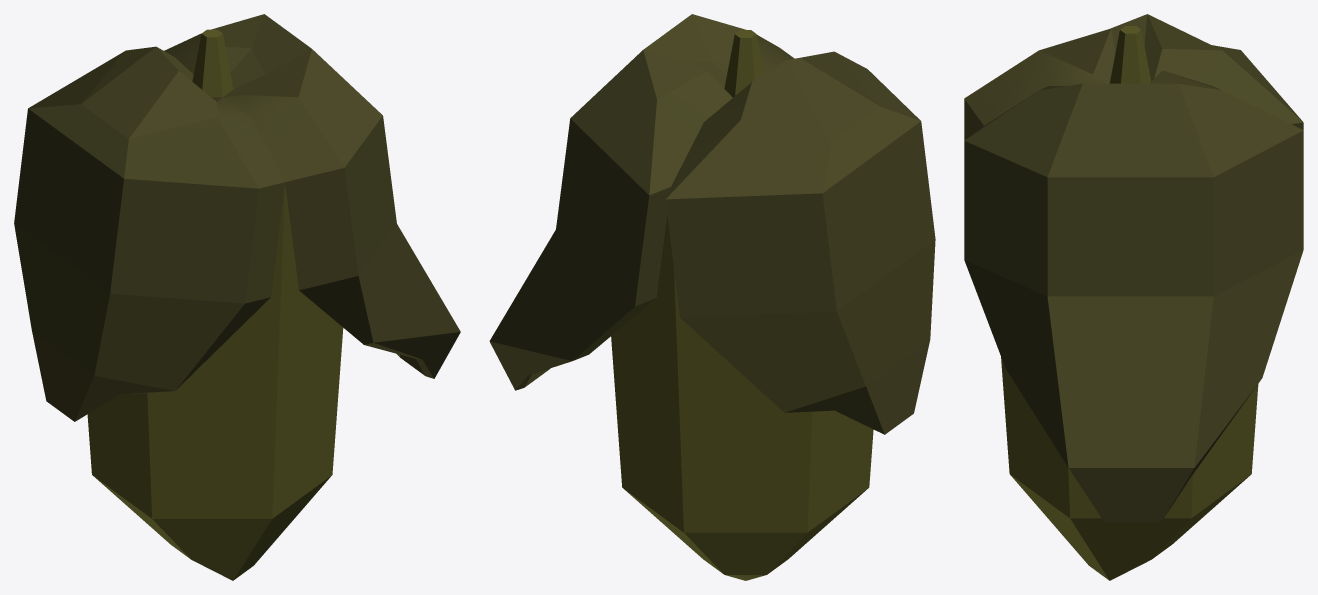
The picture shows the model from 3 angles, left to right: view 1: azimuth 30°, elevation 25°; view 2: azimuth 150°, elevation 25°; view 3: azimuth 270°, elevation 25°; orthographic projection. The views are drawn at different scales.
Parts seen in each view (by area): view 1: 玉米_pCylinder10; view 2: 玉米_pCylinder10; view 3: 玉米_pCylinder10.
Boxes of the visible parts, box(x1,y1,x2,y2) form: 玉米_pCylinder10: box(14, 14, 460, 580); 玉米_pCylinder10: box(489, 14, 935, 580); 玉米_pCylinder10: box(964, 14, 1303, 580).
Bounding box in the file's own units: 18.21 × 14.43 × 25.13.
